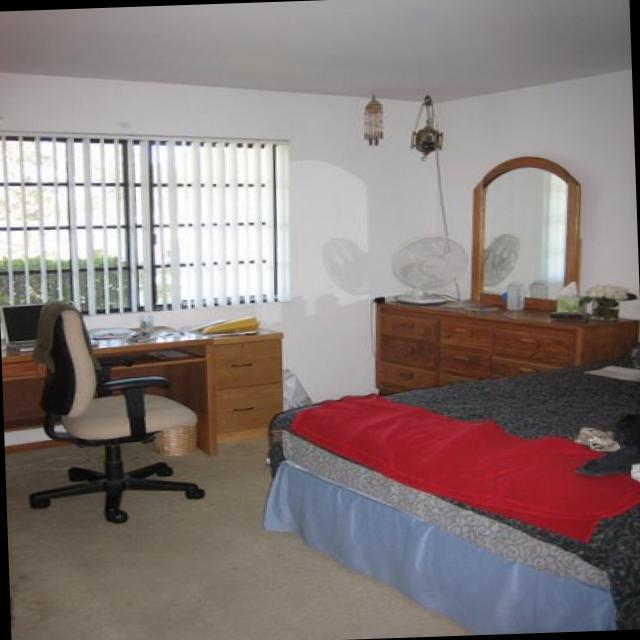2001: (0, 128, 286, 319)
Bed: (264, 466, 616, 632)
Chair: (31, 297, 209, 521)
Fan: (389, 234, 468, 304)
bed -occluded-: (270, 352, 640, 632)
chest-of-drawers: (379, 295, 636, 390)
computer: (6, 303, 41, 343)
computer monitor: (99, 351, 166, 368)
filing drawer: (211, 339, 283, 446)
mirror crop: (474, 152, 584, 308)
waste paper basket: (157, 430, 197, 453)
